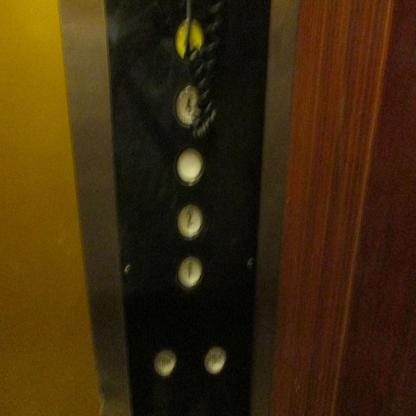1: (174, 253, 204, 290)
2: (174, 202, 204, 241)
blur: (172, 83, 209, 128), (174, 17, 206, 62), (203, 343, 228, 375), (152, 347, 177, 377)
empty: (173, 144, 206, 186)
